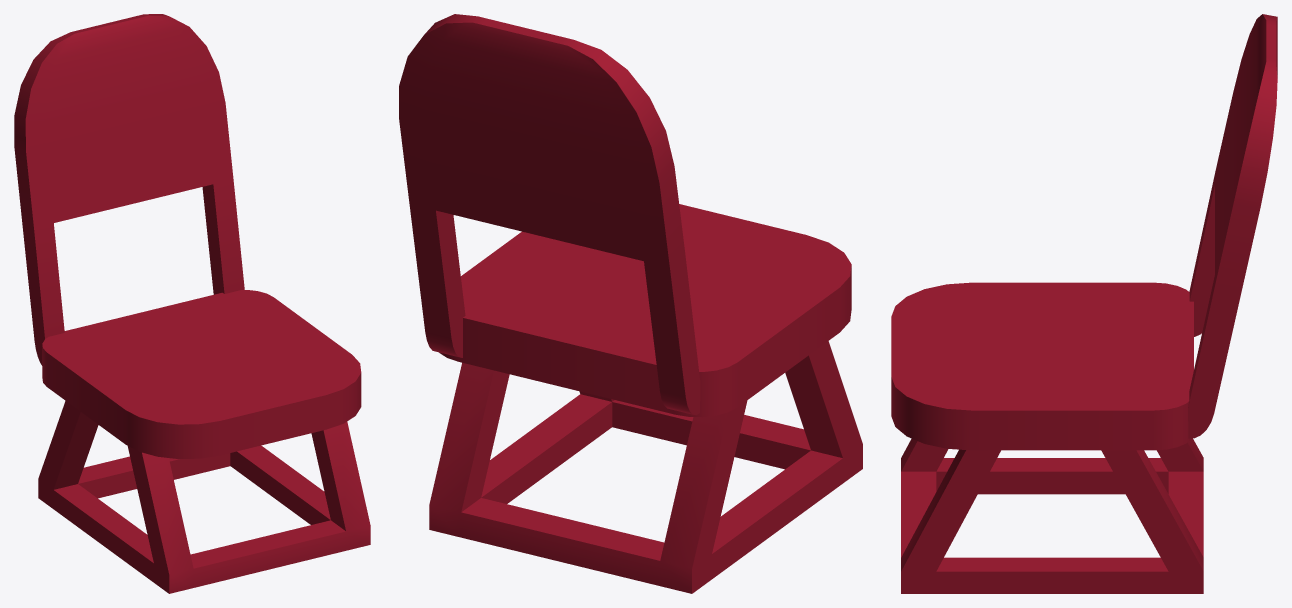
The model's file is sillatribunaprueba.fbx.
3 renders of one model, left to right at view 1: azimuth 30°, elevation 25°; view 2: azimuth 150°, elevation 25°; view 3: azimuth 270°, elevation 25°, orthographic. The views are drawn at different scales.
Parts seen in each view (by area): view 1: sillagrada; view 2: sillagrada; view 3: sillagrada.
Part boxes in pixels (x1=…): sillagrada: x1=14, y1=14, x2=370, y2=593; sillagrada: x1=399, y1=14, x2=862, y2=593; sillagrada: x1=891, y1=14, x2=1277, y2=593.
Size of the model in its own units: 200 by 362 by 255.
